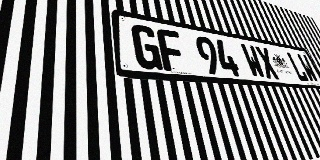4: (212, 38, 241, 77)
9: (194, 35, 223, 75)
F: (156, 28, 187, 72)
G: (131, 23, 163, 70)
L: (285, 52, 310, 82)
W: (240, 43, 267, 79), (296, 53, 320, 83)
X: (254, 46, 280, 80)
